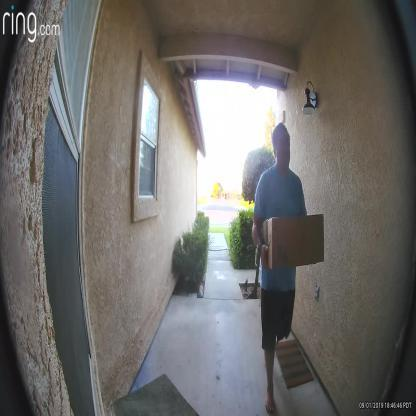package: (260, 211, 326, 273)
